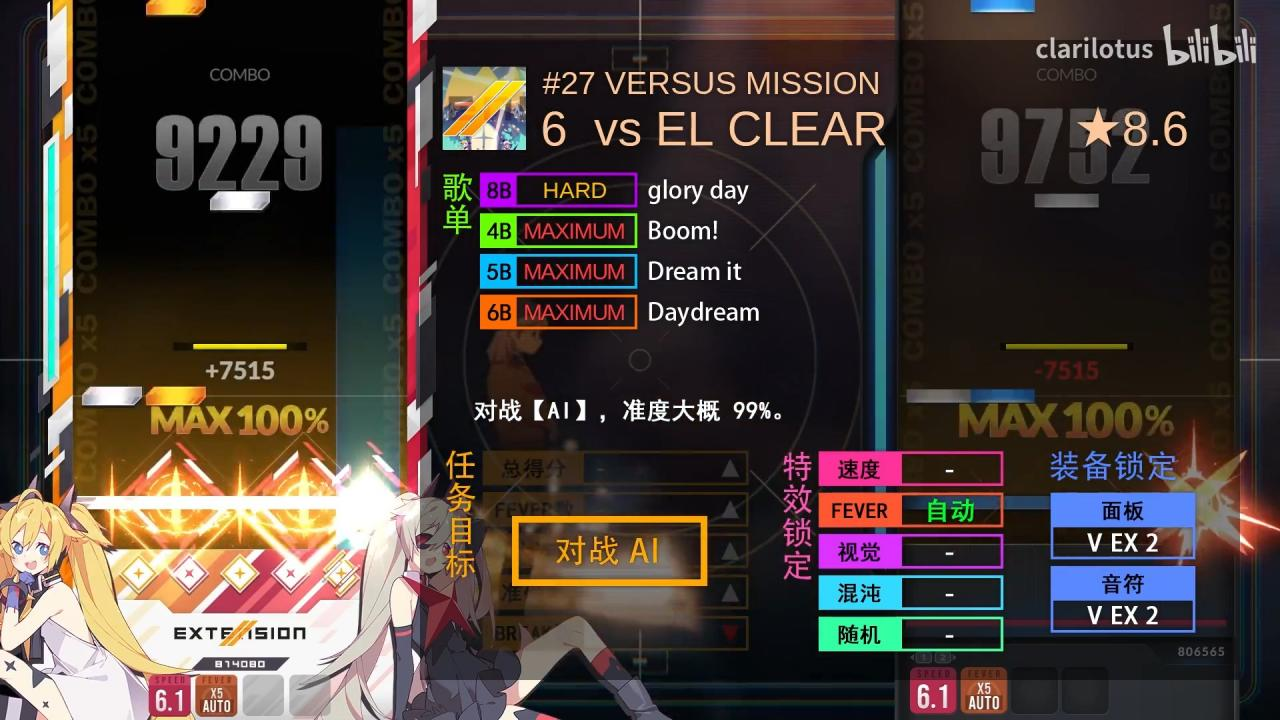note: (81, 386, 143, 407), (145, 386, 207, 406), (210, 191, 270, 211), (146, 0, 207, 16)
